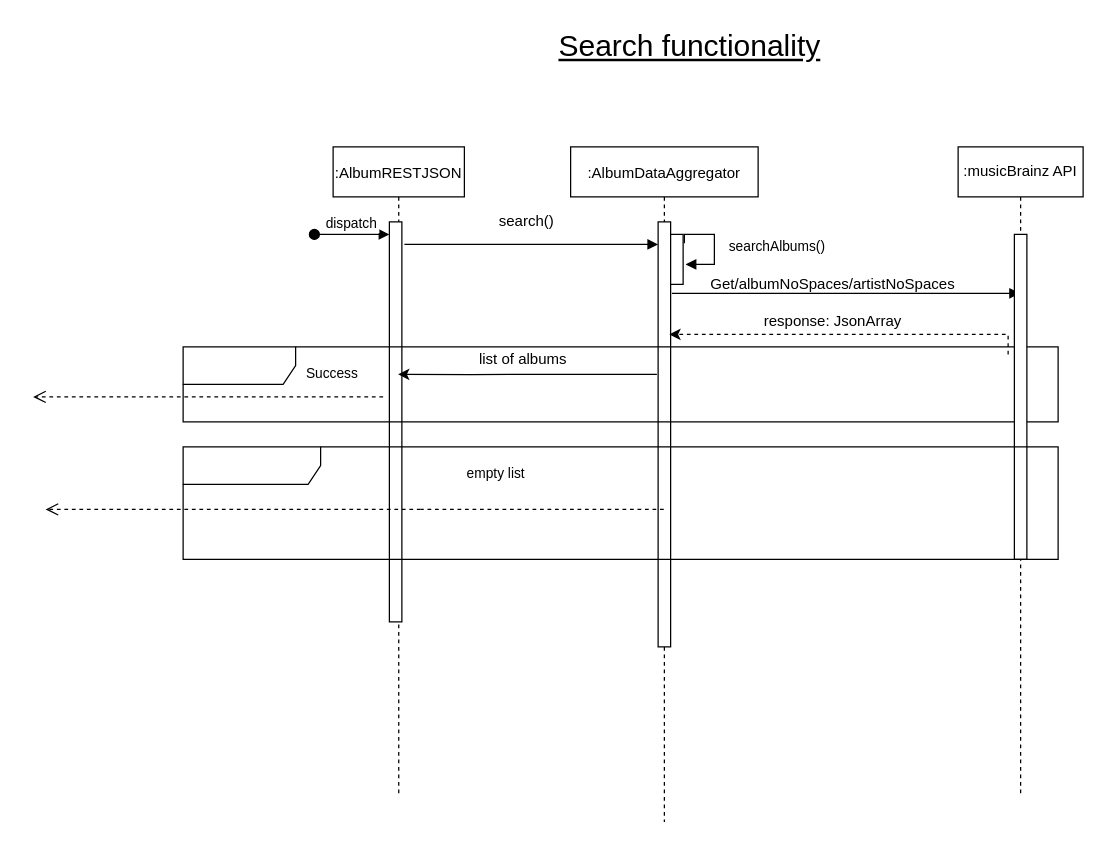
The diagram is 1105 pixels wide and 844 high, and some of its shapes have lost their labels. Each missing label, with the box of its shape:
Successful search: (182, 346, 1058, 422)
UnSuccessful search: (182, 446, 1058, 559)
